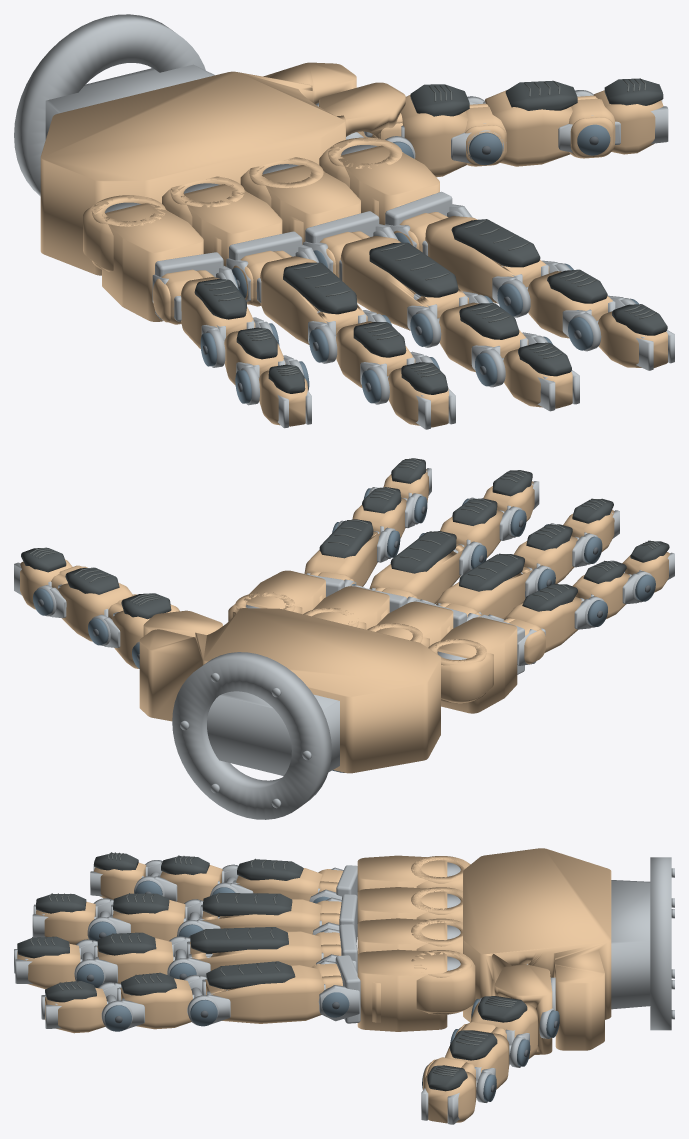
The model's file is sora8.glb.
3 renders of one model, top to bottom at view 1: azimuth 30°, elevation 25°; view 2: azimuth 150°, elevation 25°; view 3: azimuth 270°, elevation 25°, orthographic. The views are drawn at different scales.
Visible parts, largest first — view 1: visual__central_palm__0, visual__central_palm__1, visual__palm_little_float_link__2, visual__thumb_proximal__0, visual__palm_index_float_link__2, visual__palm_ring_float_link__2, visual__thumb_metacarpal__0, visual__middle_proximal__0, visual__palm_middle_float_link__2, visual__index_proximal__0, visual__ring_proximal__0, visual__thumb_oppose_link__1 (+48 smaller); view 2: visual__central_palm__0, visual__central_palm__1, visual__palm_little_float_link__2, visual__palm_index_float_link__2, visual__middle_proximal__0, visual__palm_middle_float_link__2, visual__ring_proximal__0, visual__thumb_proximal__0, visual__palm_ring_float_link__2, visual__little_proximal__0, visual__index_proximal__0, visual__middle_proximal__4 (+27 smaller); view 3: visual__central_palm__0, visual__central_palm__1, visual__palm_index_float_link__2, visual__index_proximal__0, visual__palm_ring_float_link__2, visual__middle_proximal__0, visual__palm_little_float_link__2, visual__thumb_oppose_link__1, visual__palm_middle_float_link__2, visual__middle_proximal__4, visual__ring_proximal__0, visual__index_middle__0 (+50 smaller).
Part boxes in pixels (x1,y1,x2,y2): visual__central_palm__0: (40, 62, 403, 275); visual__central_palm__1: (14, 14, 318, 196); visual__palm_little_float_link__2: (102, 203, 203, 321); visual__thumb_proximal__0: (484, 90, 615, 166); visual__palm_index_float_link__2: (338, 145, 439, 224); visual__palm_ring_float_link__2: (181, 184, 282, 266); visual__thumb_metacarpal__0: (401, 94, 506, 177); visual__middle_proximal__0: (340, 236, 468, 330); visual__palm_middle_float_link__2: (261, 165, 360, 244); visual__index_proximal__0: (425, 216, 549, 303); visual__ring_proximal__0: (260, 256, 367, 344); visual__thumb_oppose_link__1: (319, 82, 405, 139); visual__central_palm__0: (139, 592, 493, 773); visual__central_palm__1: (172, 652, 339, 819); visual__palm_little_float_link__2: (435, 617, 517, 713); visual__palm_index_float_link__2: (244, 570, 325, 614); visual__middle_proximal__0: (369, 544, 464, 604); visual__palm_middle_float_link__2: (312, 586, 389, 629); visual__ring_proximal__0: (436, 567, 531, 619); visual__thumb_proximal__0: (51, 565, 132, 641); visual__palm_ring_float_link__2: (374, 601, 453, 645); visual__little_proximal__0: (504, 596, 582, 652); visual__index_proximal__0: (304, 531, 379, 586); visual__middle_proximal__4: (390, 531, 456, 573); visual__central_palm__0: (411, 848, 611, 1050); visual__central_palm__1: (527, 857, 674, 1030); visual__palm_index_float_link__2: (357, 949, 447, 1031); visual__index_proximal__0: (205, 965, 324, 1023); visual__palm_ring_float_link__2: (357, 887, 447, 923); visual__middle_proximal__0: (190, 931, 321, 970); visual__palm_little_float_link__2: (357, 855, 447, 891); visual__thumb_oppose_link__1: (494, 964, 552, 1054); visual__palm_middle_float_link__2: (357, 918, 447, 954); visual__middle_proximal__4: (190, 927, 288, 953); visual__ring_proximal__0: (202, 899, 321, 934); visual__index_middle__0: (120, 978, 192, 1029).
Bounding box in the file's own units: 0.1838 × 0.056 × 0.2136.
